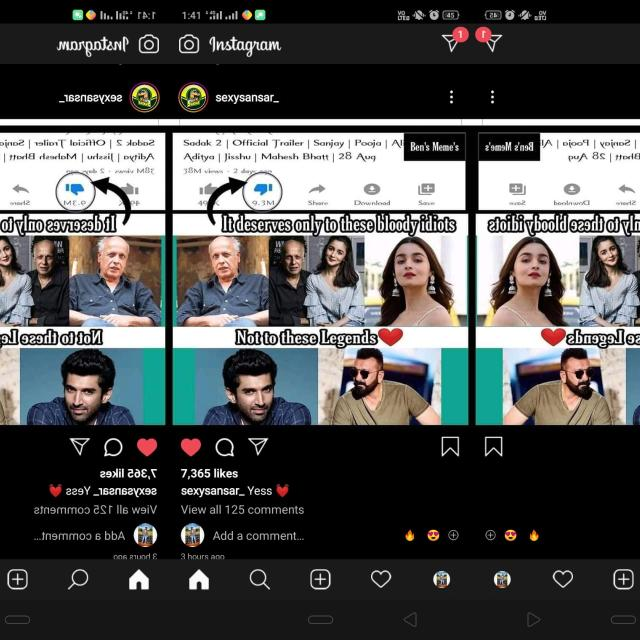person: (202, 345, 306, 421), (30, 345, 134, 421), (197, 228, 253, 344), (83, 228, 139, 344), (388, 240, 450, 334), (492, 240, 554, 334), (342, 349, 416, 425), (526, 349, 600, 425), (313, 236, 363, 320), (579, 236, 629, 320), (23, 240, 58, 308), (278, 240, 312, 308), (0, 236, 23, 319), (629, 239, 640, 308), (636, 345, 640, 421)
